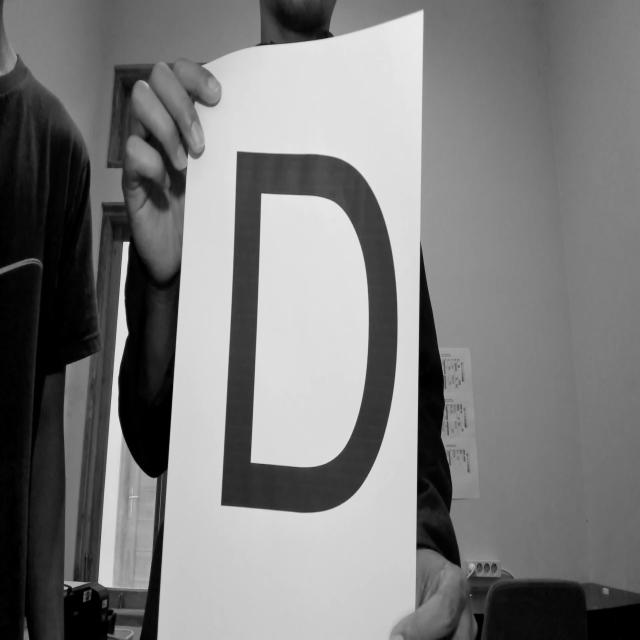d: (214, 128, 405, 536)
